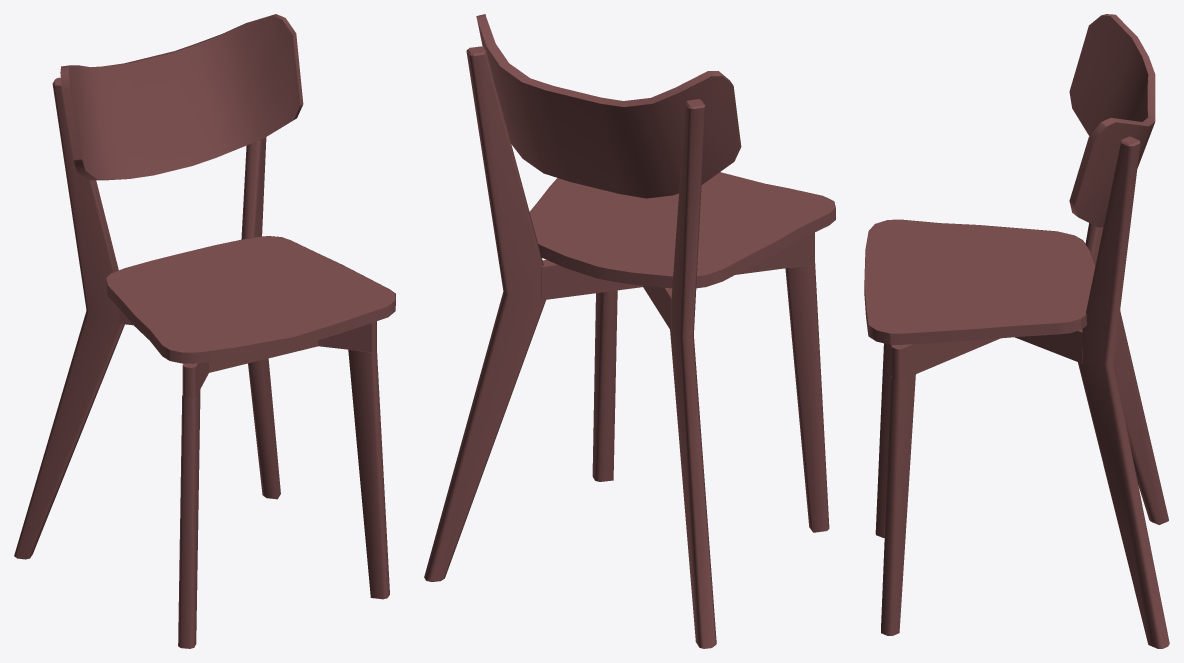
The model's file is IkeaChari_Mesh.obj.
3 renders of one model, left to right at view 1: azimuth 30°, elevation 25°; view 2: azimuth 150°, elevation 25°; view 3: azimuth 270°, elevation 25°, orthographic. The views are drawn at different scales.
Parts seen in each view (by area): view 1: ChairSeat2Shape; view 2: ChairSeat2Shape; view 3: ChairSeat2Shape.
Part boxes in pixels (x1,y1,x2,y2): ChairSeat2Shape: [14, 14, 395, 648]; ChairSeat2Shape: [424, 14, 835, 648]; ChairSeat2Shape: [864, 14, 1169, 648].
Size of the model in its own units: 18.56 by 33.61 by 18.04.
